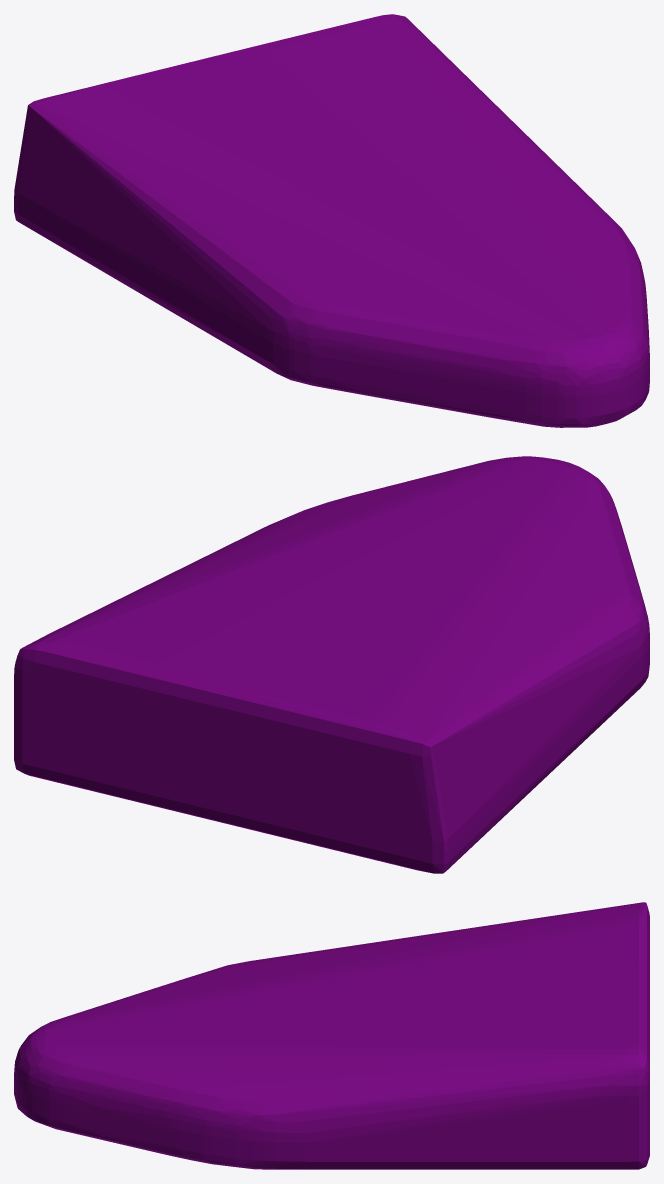
The model's file is right_knee_link_part_11.obj.
The picture shows the model from 3 angles, top to bottom: view 1: azimuth 30°, elevation 25°; view 2: azimuth 150°, elevation 25°; view 3: azimuth 270°, elevation 25°; orthographic projection. The views are drawn at different scales.
Bounding box in the file's own units: 0.0756 × 0.0229 × 0.1176.
